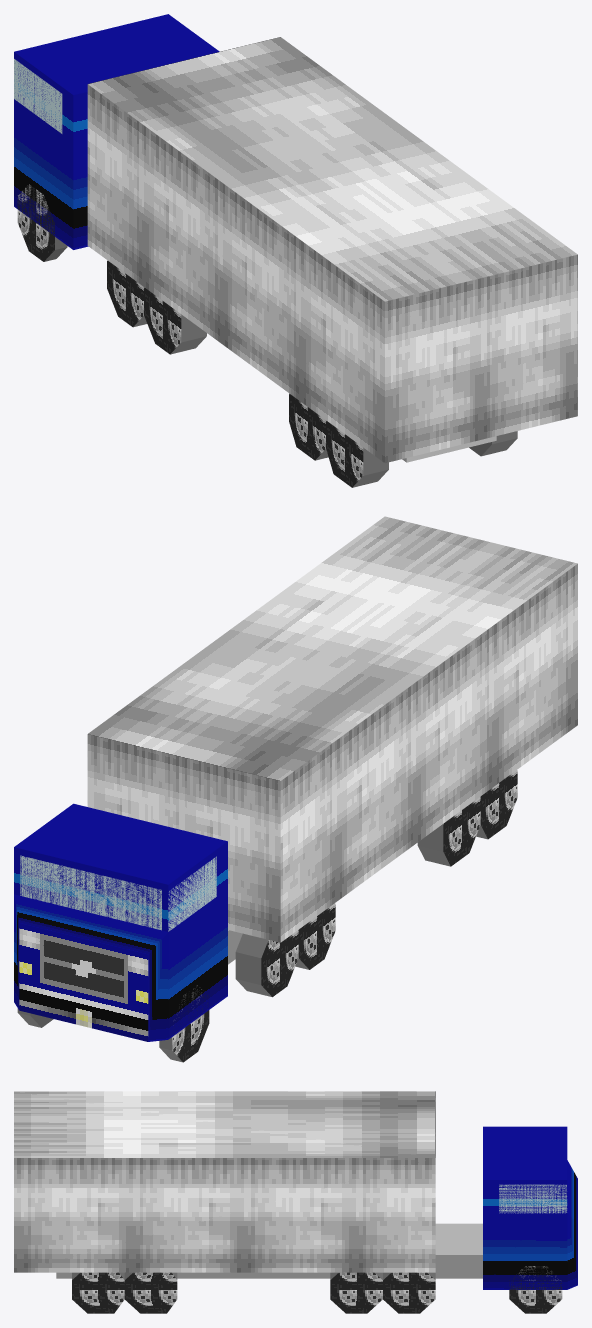
File: uvmd-0155.glb
The picture shows the model from 3 angles, top to bottom: view 1: azimuth 30°, elevation 25°; view 2: azimuth 150°, elevation 25°; view 3: azimuth 270°, elevation 25°; orthographic projection. The views are drawn at different scales.
Visible parts, largest first — view 1: uvmd-0155; view 2: uvmd-0155; view 3: uvmd-0155.
Boxes of the visible parts, x1,y1,x2,y2 form: uvmd-0155: [14, 14, 577, 487]; uvmd-0155: [14, 516, 577, 1062]; uvmd-0155: [14, 1091, 577, 1313].
Bounding box in the file's own units: 30 × 34 × 107.
4 materials, 4 textured.
